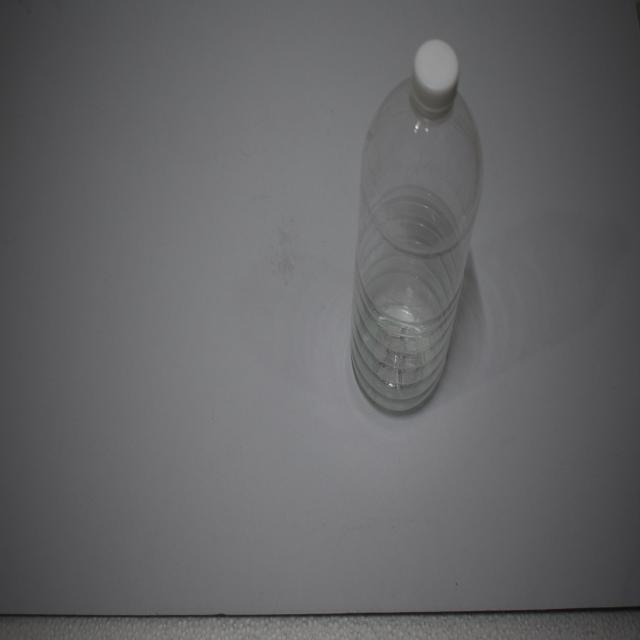bottle: (333, 21, 479, 432)
